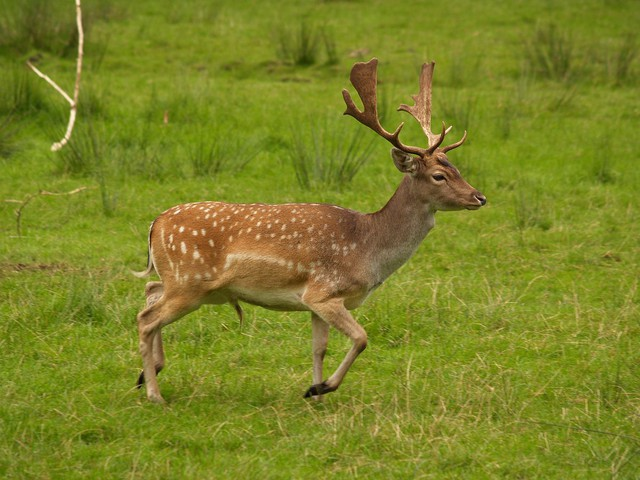deer: (130, 54, 499, 409)
